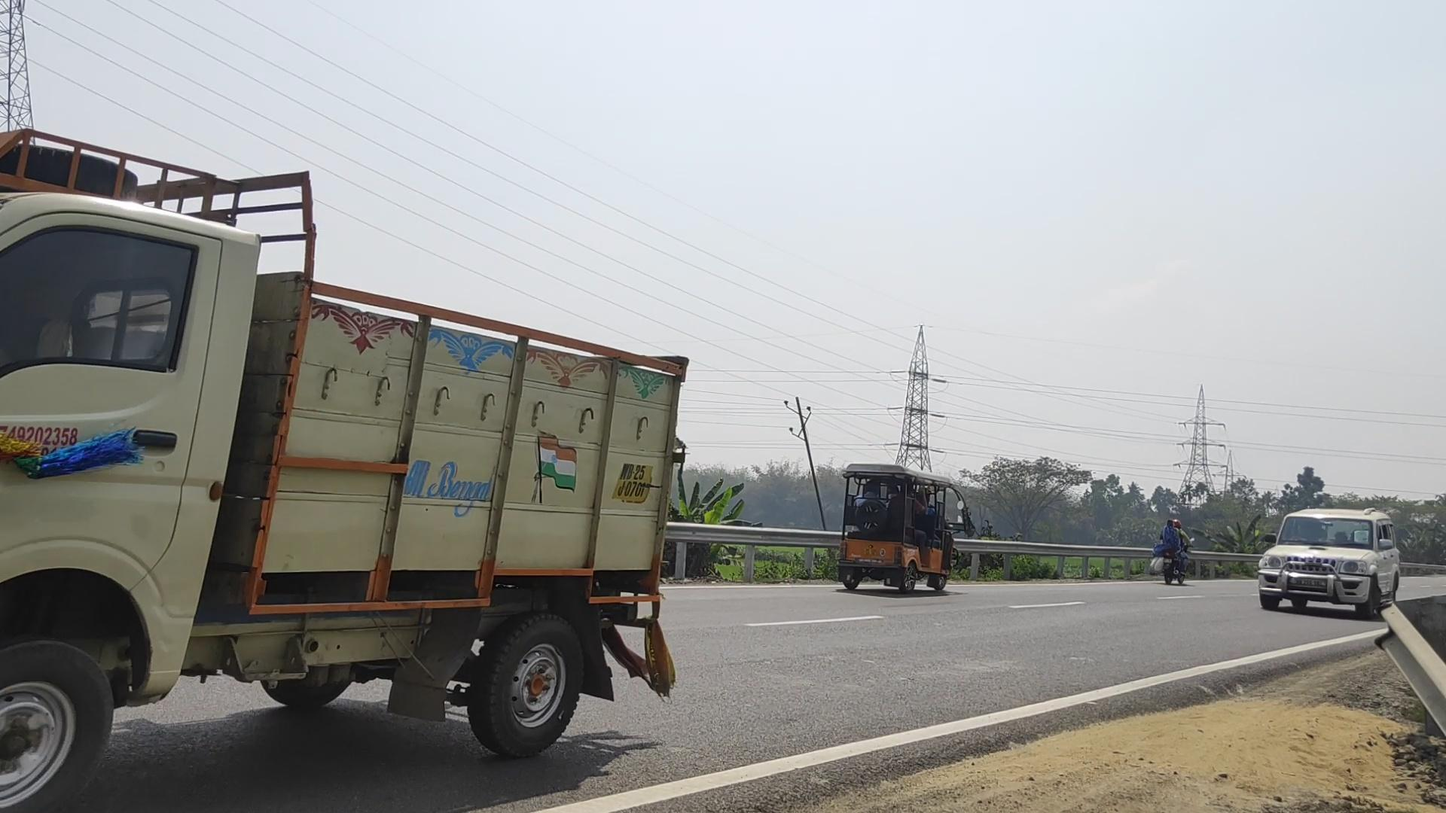Auto: (836, 463, 970, 595)
bike: (1150, 519, 1195, 585)
car: (1257, 507, 1401, 620)
van: (1, 126, 691, 813)
